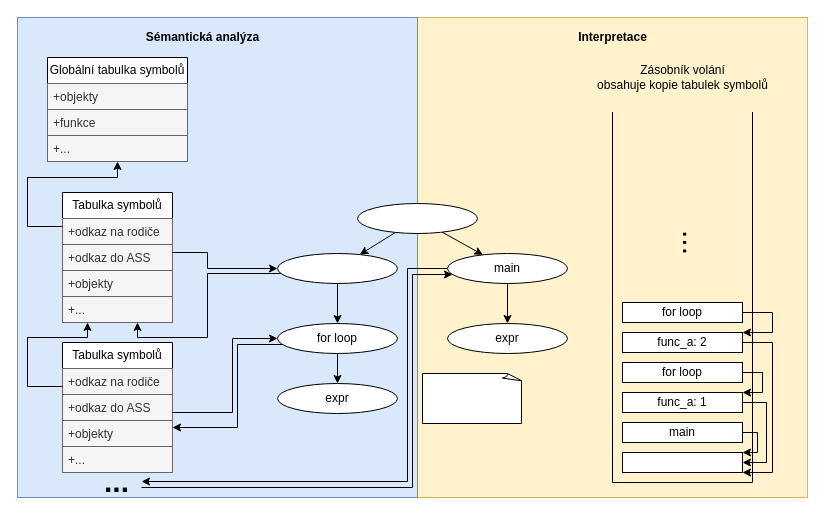
The diagram is 825 pixels wide and 524 high, and some of its shapes have lost their labels. The shapes that lost their labels are listed below. From the top down, each one's centre as x and y in pixels, then its label:
At point 417,218: "ASS".
At point 337,268: "func_a".
At point 472,398: "Zjednodušený abstraktní syntaktický strom".
At point 682,462: "global".
